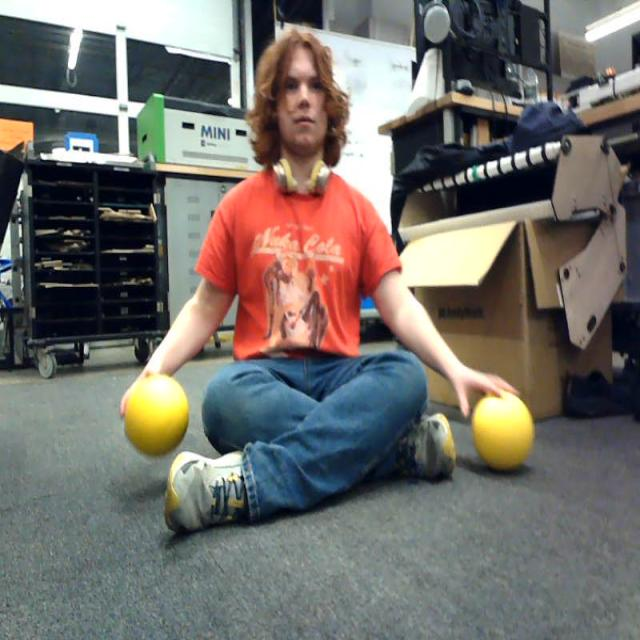Fuel: (123, 372, 190, 460), (473, 391, 533, 471)
